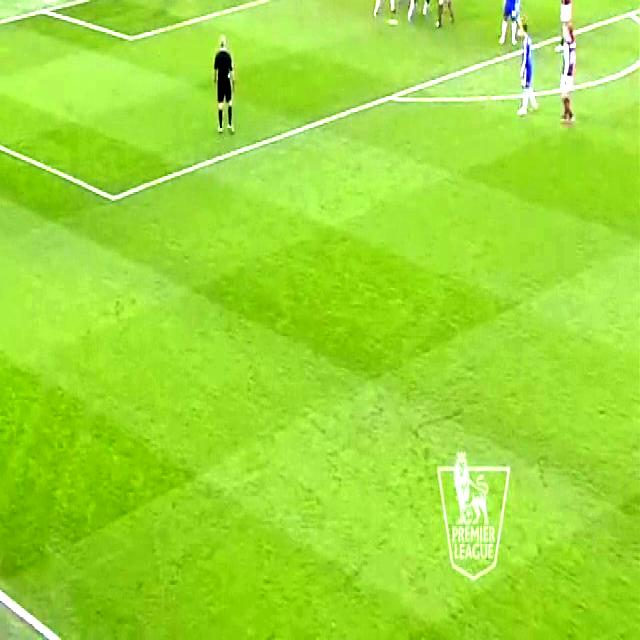referee: (208, 26, 238, 142)
soccer-player: (549, 17, 576, 131), (513, 17, 539, 123), (494, 0, 525, 57), (554, 0, 577, 43), (430, 0, 458, 34), (369, 0, 396, 27), (409, 0, 432, 23), (168, 0, 195, 4)
